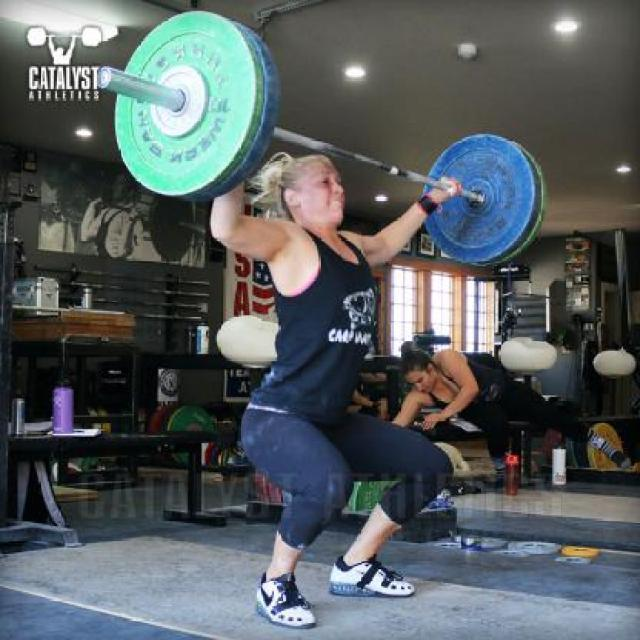barbell: (109, 9, 288, 200), (420, 128, 557, 268)
